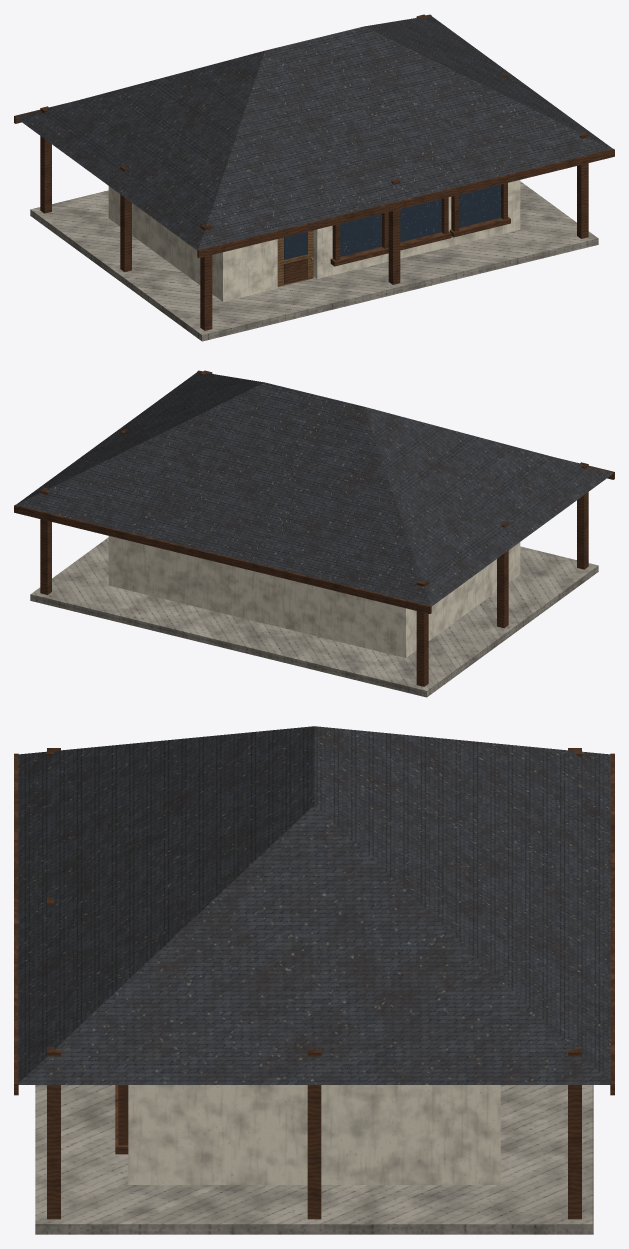
The model's file is Bld_CafePavilion.fbx.
3 views of the same model, one above another, from view 1: azimuth 30°, elevation 25°; view 2: azimuth 150°, elevation 25°; view 3: azimuth 270°, elevation 25° (orthographic). The views are drawn at different scales.
Parts seen in each view (by area): view 1: Roof, Veranda, Walls_Room, Windows, Door_CafePavilion; view 2: Roof, Veranda, Walls_Room; view 3: Roof, Veranda, Walls_Room, Windows.
Boxes of the visible parts, box(x1,y1,x2,y2) form: Roof: box(14, 14, 614, 257); Veranda: box(30, 14, 598, 341); Walls_Room: box(108, 180, 520, 301); Windows: box(330, 183, 510, 266); Door_CafePavilion: box(277, 230, 313, 286); Roof: box(14, 370, 614, 613); Veranda: box(30, 370, 598, 697); Walls_Room: box(108, 536, 520, 657); Roof: box(14, 726, 614, 1095); Veranda: box(35, 748, 593, 1234); Walls_Room: box(128, 1085, 500, 1184); Windows: box(115, 1085, 128, 1154).
Size of the model in its own units: 16.8 by 7.4 by 12.92.
